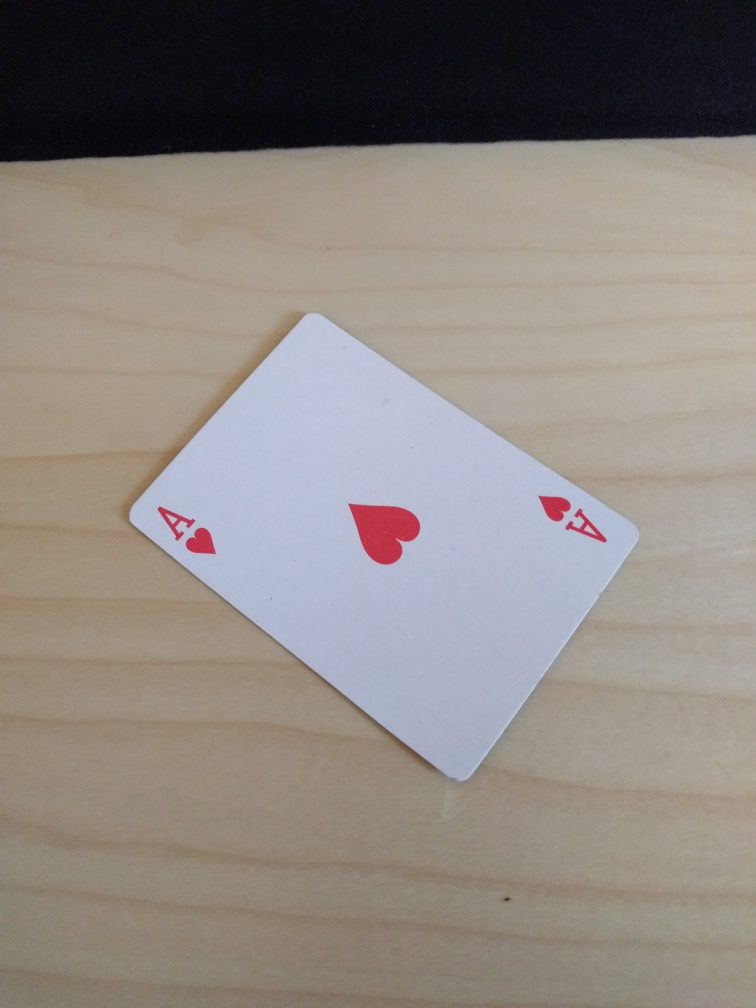ace: (127, 311, 641, 784)
